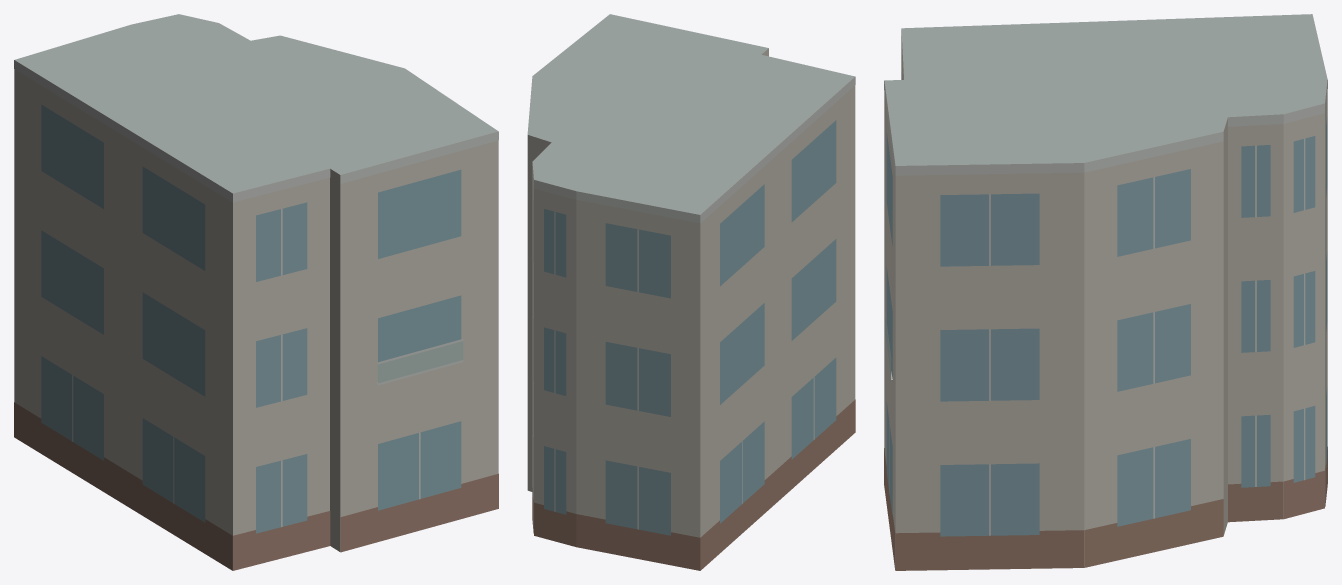
The model's file is survey-upis-32670384.glb.
The picture shows the model from 3 angles, left to right: view 1: azimuth 30°, elevation 25°; view 2: azimuth 150°, elevation 25°; view 3: azimuth 270°, elevation 25°; orthographic projection. The views are drawn at different scales.
Parts seen in each view (by area): view 1: survey-upis-32670384.tmp; view 2: survey-upis-32670384.tmp; view 3: survey-upis-32670384.tmp.
Part boxes in pixels (box(x1,y1,x2,y2)): survey-upis-32670384.tmp: box(14, 14, 498, 570); survey-upis-32670384.tmp: box(527, 14, 855, 570); survey-upis-32670384.tmp: box(884, 14, 1327, 570).
Size of the model in its own units: 8.22 by 10.2 by 10.13.
